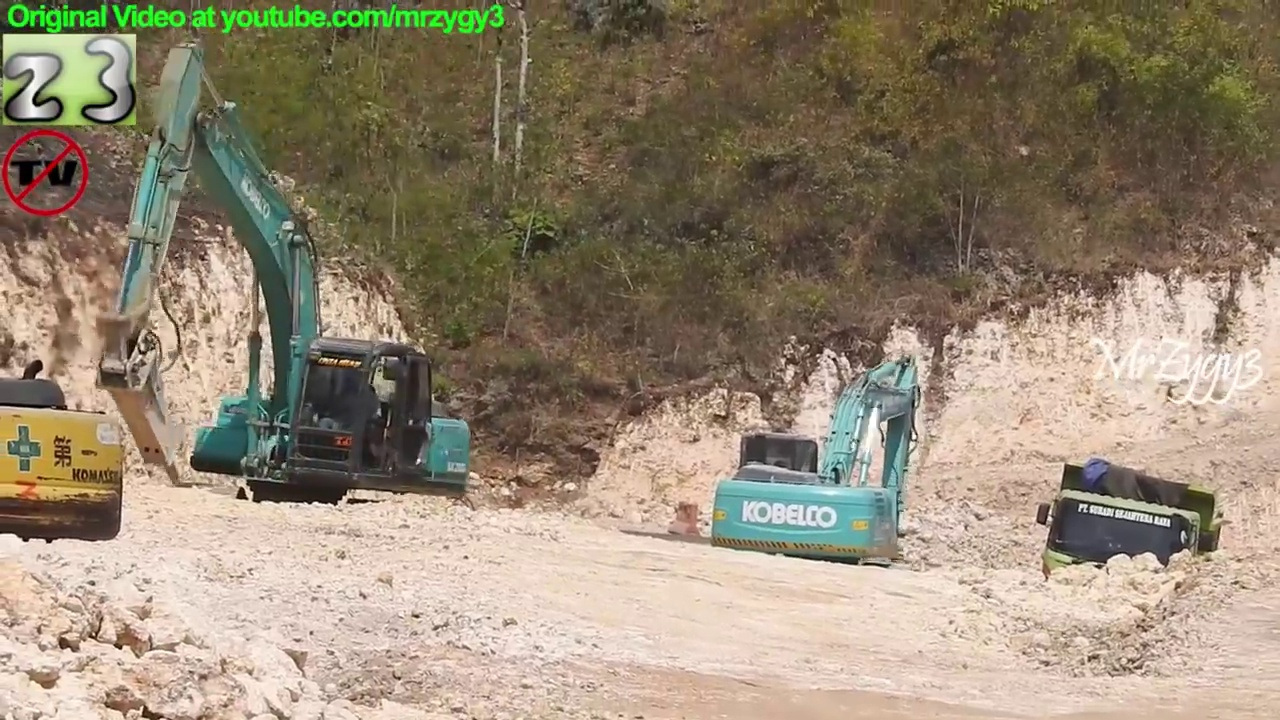excavator: (88, 30, 479, 551), (706, 345, 930, 612), (1, 358, 130, 545)
truck: (1033, 452, 1234, 650)
